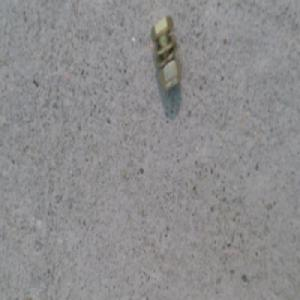BoltNutSet: (151, 14, 181, 94)
